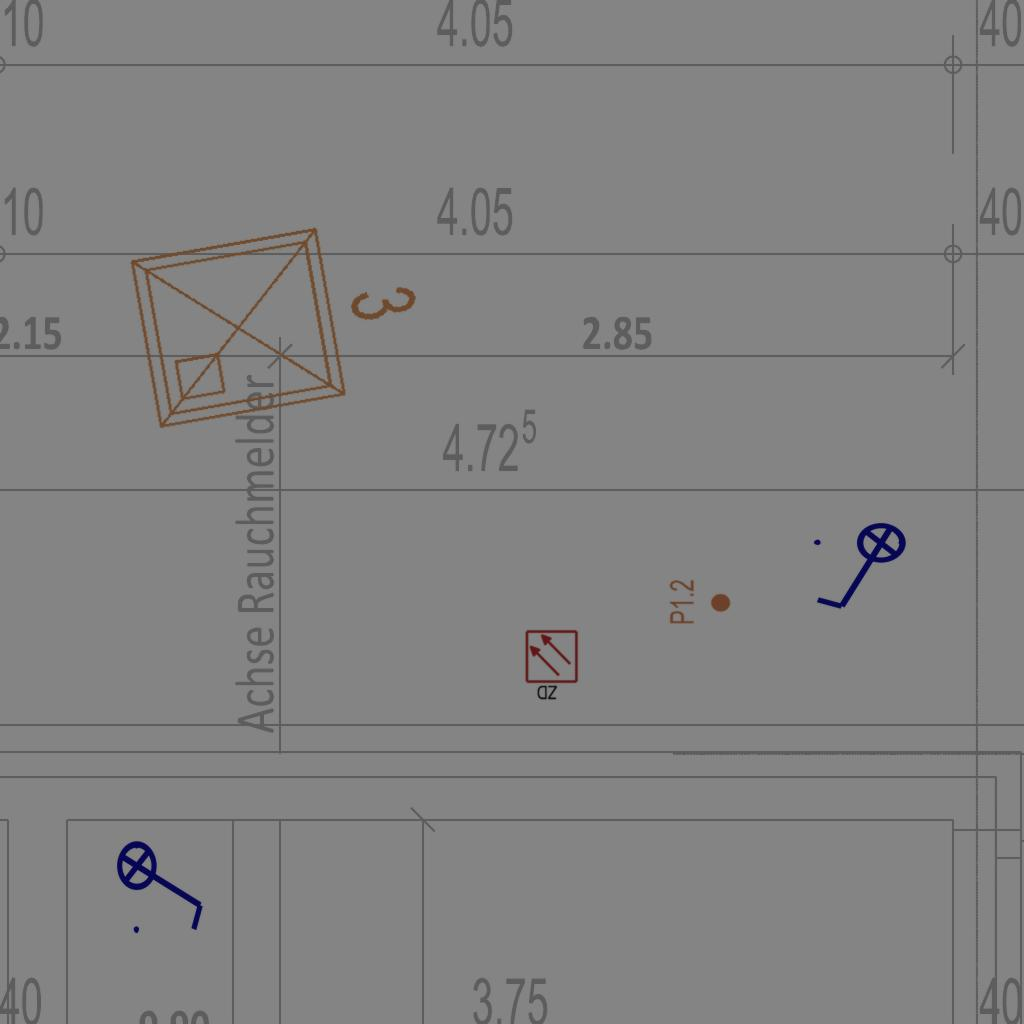Ausschalter_beleuchtet: (115, 827, 211, 939), (808, 521, 920, 617)
Downlight_LED_Einbauleuchten_Flur: (668, 579, 732, 625)
Einbaudownlights_LED_Konferenzraeume: (112, 188, 444, 446)
ZD_Melder_in_Zwischendecke_mit_Revisionsoeffnung_mind_40_x_40_cm: (524, 629, 581, 703)
